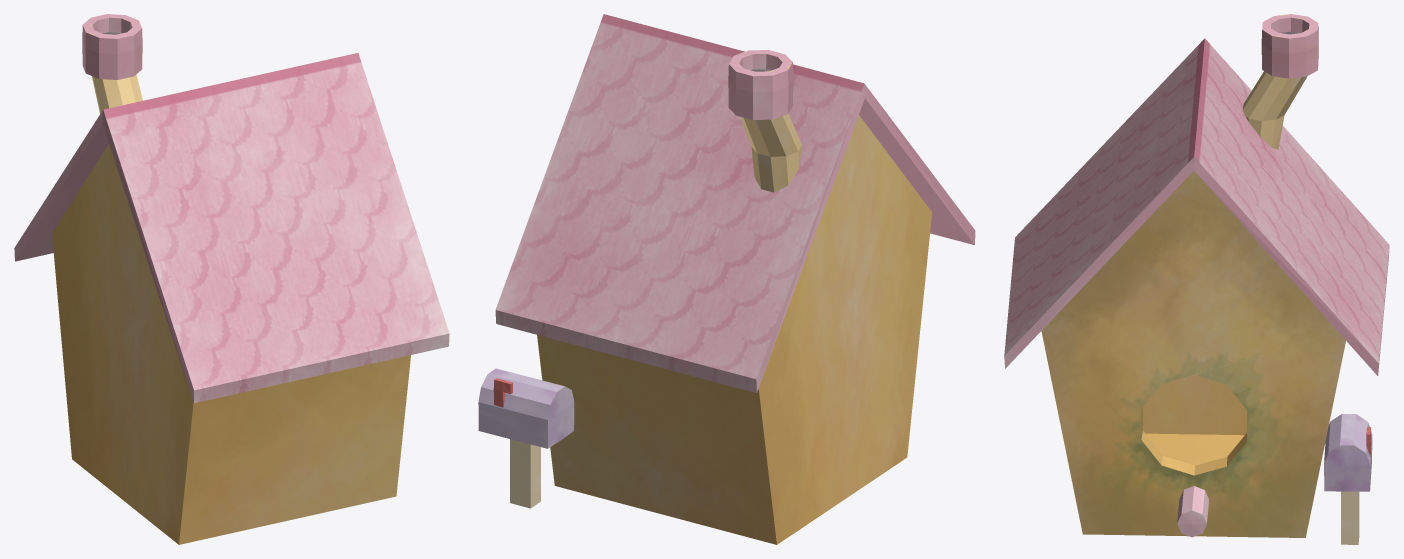
Rendered from bird house.FBX.
The picture shows the model from 3 angles, left to right: view 1: azimuth 30°, elevation 25°; view 2: azimuth 150°, elevation 25°; view 3: azimuth 270°, elevation 25°; orthographic projection. The views are drawn at different scales.
Visible parts, largest first — view 1: pCube8; view 2: pCube8; view 3: pCube8.
Boxes of the visible parts, x1,y1,x2,y2 form: pCube8: (14,14,449,544); pCube8: (478,14,975,544); pCube8: (1004,14,1389,544).
Bounding box in the file's own units: 23.27 × 33.03 × 27.21.
Materials: 1 (1 with a texture image).
